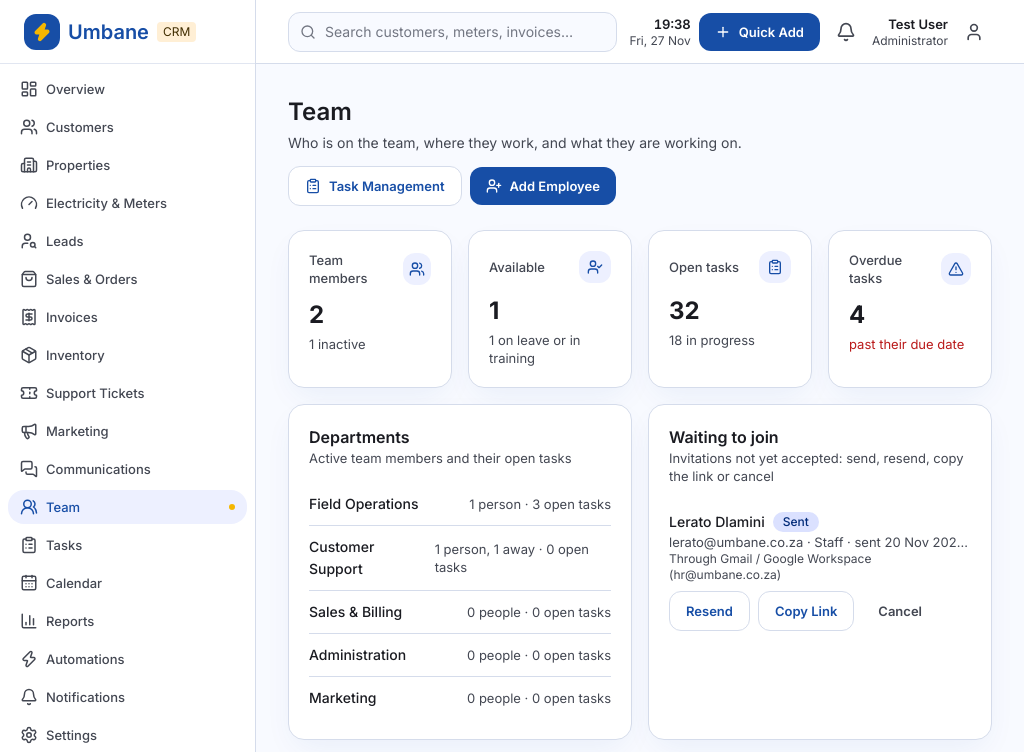
Test: team page › resends an invitation
This screenshot has width=1036, height=752.
Click the button with aria-label "Resend invitation to lerato@umbane.co.za": (709, 611) left=669, top=591, right=750, bottom=631
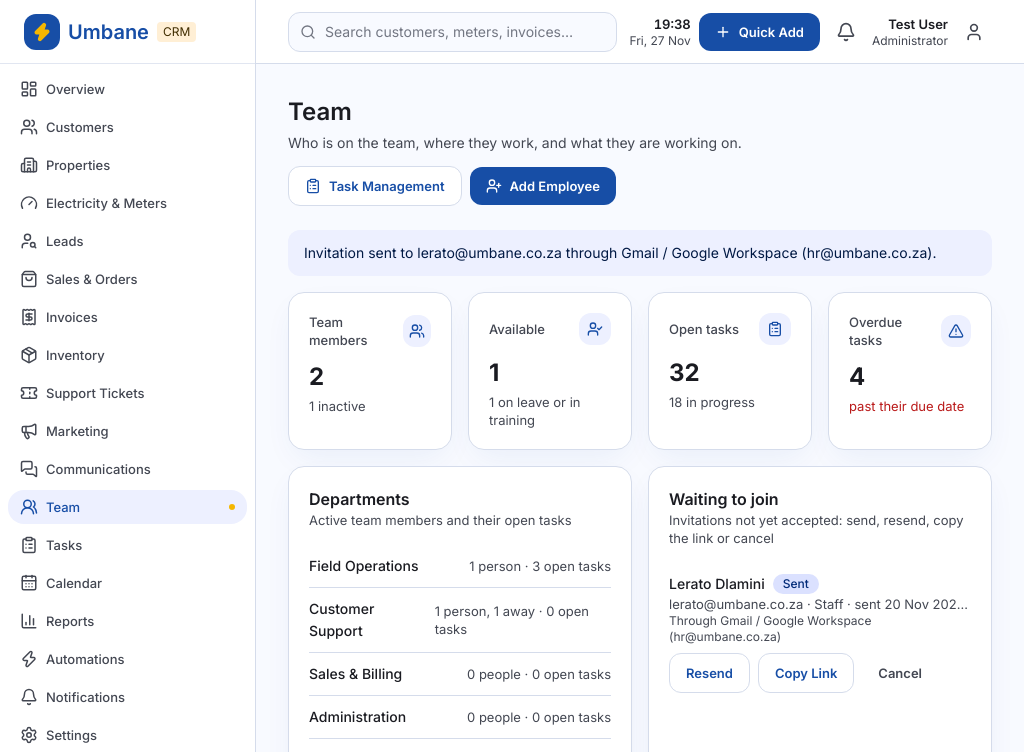
Expected: the text "Invitation sent to lerato@umbane.co.za through Gmail / Google Workspace (hr@umbane.co.za)." is shown, left=304, top=244, right=936, bottom=261
